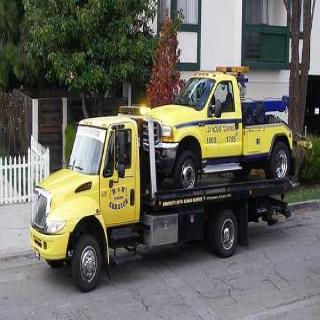Towing_truck: (29, 106, 295, 292), (147, 63, 295, 190)
